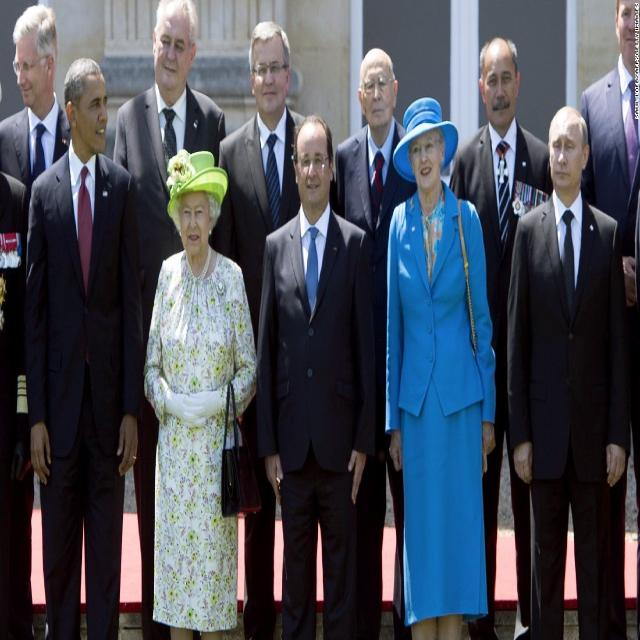body: (112, 0, 228, 629), (446, 29, 560, 639), (21, 56, 140, 639), (506, 100, 630, 639), (381, 91, 499, 639), (255, 105, 376, 639), (134, 131, 256, 639), (212, 18, 308, 639), (332, 45, 418, 640), (575, 0, 639, 639), (0, 159, 37, 639), (0, 2, 72, 198)
